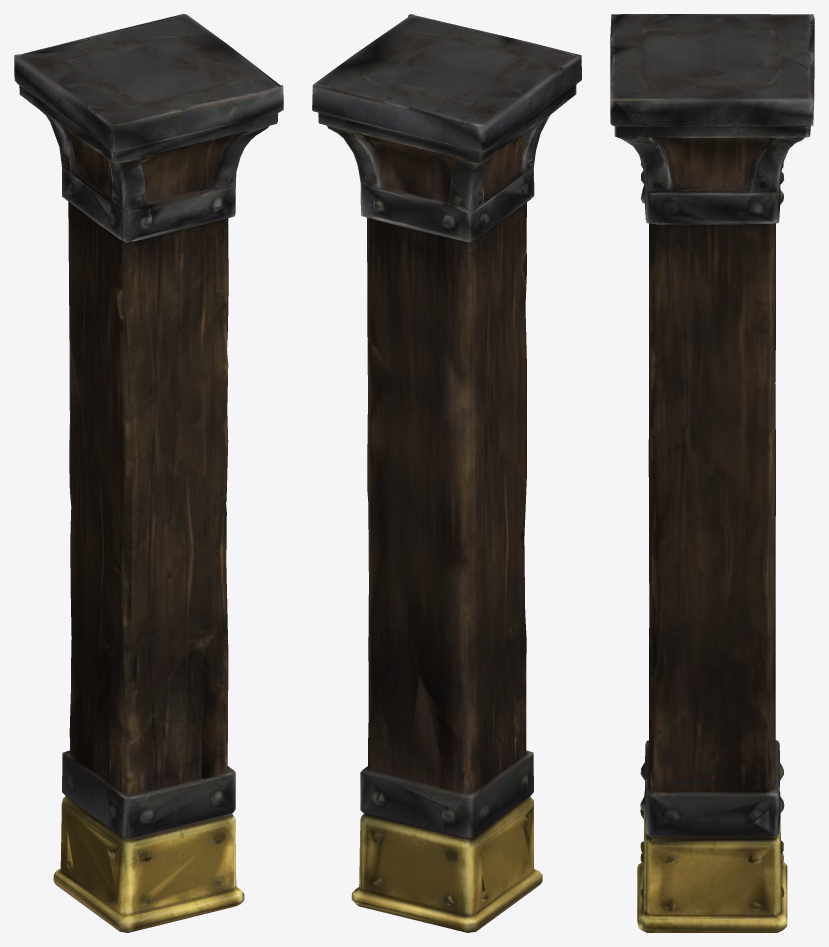
Rendered from upper_post.glb.
3 views of the same model, side by side, from view 1: azimuth 30°, elevation 25°; view 2: azimuth 150°, elevation 25°; view 3: azimuth 270°, elevation 25° (orthographic). The views are drawn at different scales.
Visible parts, largest first — view 1: mesh_node; view 2: mesh_node; view 3: mesh_node.
Boxes of the visible parts, x1=… form: mesh_node: x1=14, y1=14, x2=283, y2=932; mesh_node: x1=312, y1=14, x2=581, y2=932; mesh_node: x1=610, y1=14, x2=814, y2=932.
Size of the model in its own units: 0.4158 by 1.9 by 0.4154.
Materials: 1 (1 with a texture image).
